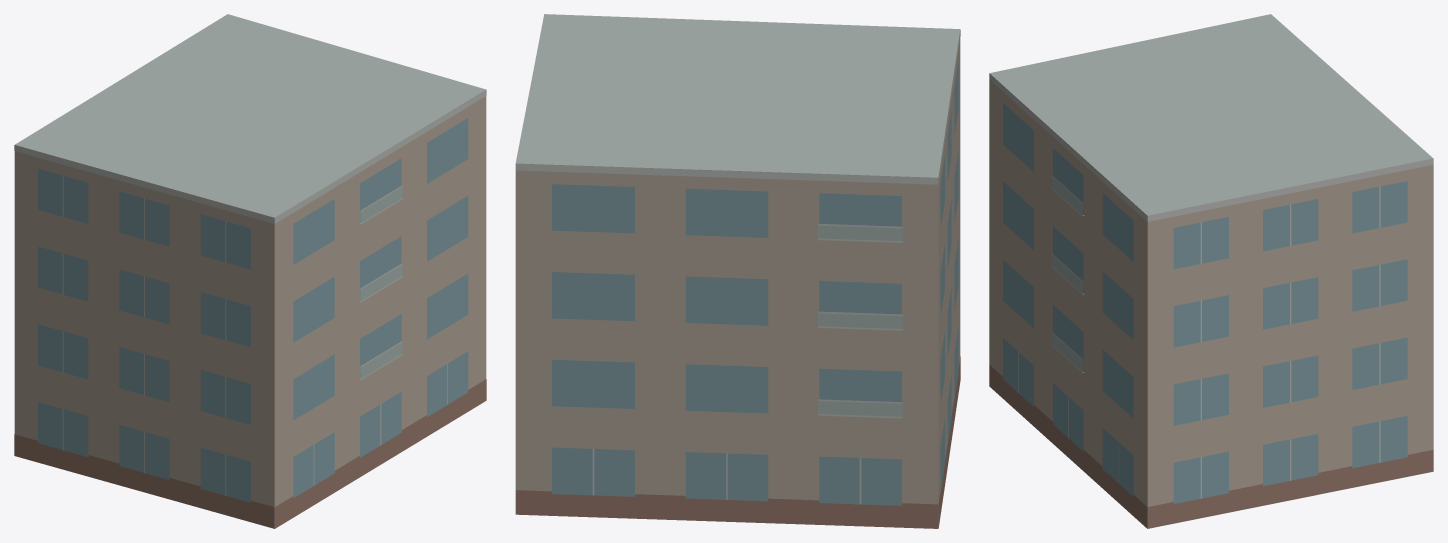
The model's file is survey-upis-32651756.glb.
3 views of the same model, side by side, from view 1: azimuth 30°, elevation 25°; view 2: azimuth 150°, elevation 25°; view 3: azimuth 270°, elevation 25° (orthographic). The views are drawn at different scales.
Parts seen in each view (by area): view 1: survey-upis-32651756.tmp; view 2: survey-upis-32651756.tmp; view 3: survey-upis-32651756.tmp.
Boxes of the visible parts, box(x1,y1,x2,y2) form: survey-upis-32651756.tmp: box(14, 14, 486, 528); survey-upis-32651756.tmp: box(515, 14, 960, 528); survey-upis-32651756.tmp: box(989, 14, 1433, 528).
Bounding box in the file's own units: 16.86 × 12.2 × 15.69.
